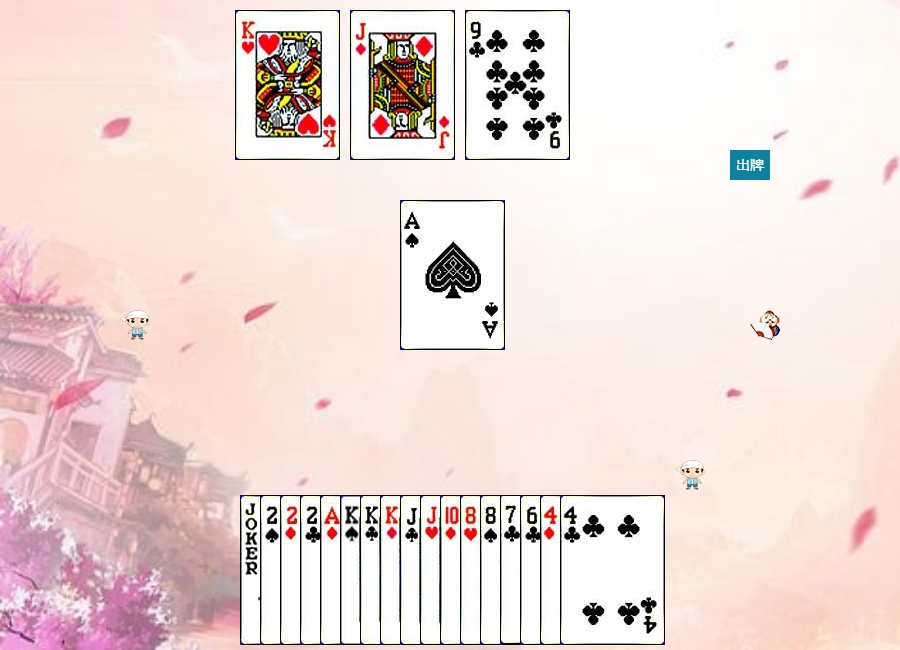10~1: (440, 495, 545, 645)
11~1: (350, 10, 455, 160)
11~2: (400, 495, 505, 645)
11~3: (420, 495, 525, 645)
13~1: (380, 495, 485, 645)
13~2: (360, 495, 465, 645)
13~3: (235, 10, 340, 160)
13~4: (340, 495, 445, 645)
14~1: (320, 495, 425, 645)
14~4: (400, 200, 505, 350)
15~1: (280, 495, 385, 645)
15~2: (300, 495, 405, 645)
15~4: (260, 495, 365, 645)
17~3: (240, 495, 345, 645)
4~1: (540, 495, 645, 645)
4~2: (560, 495, 665, 645)
6~2: (520, 495, 625, 645)
7~2: (500, 495, 605, 645)
8~3: (460, 495, 565, 645)
8~4: (480, 495, 585, 645)
9~2: (465, 10, 570, 160)
